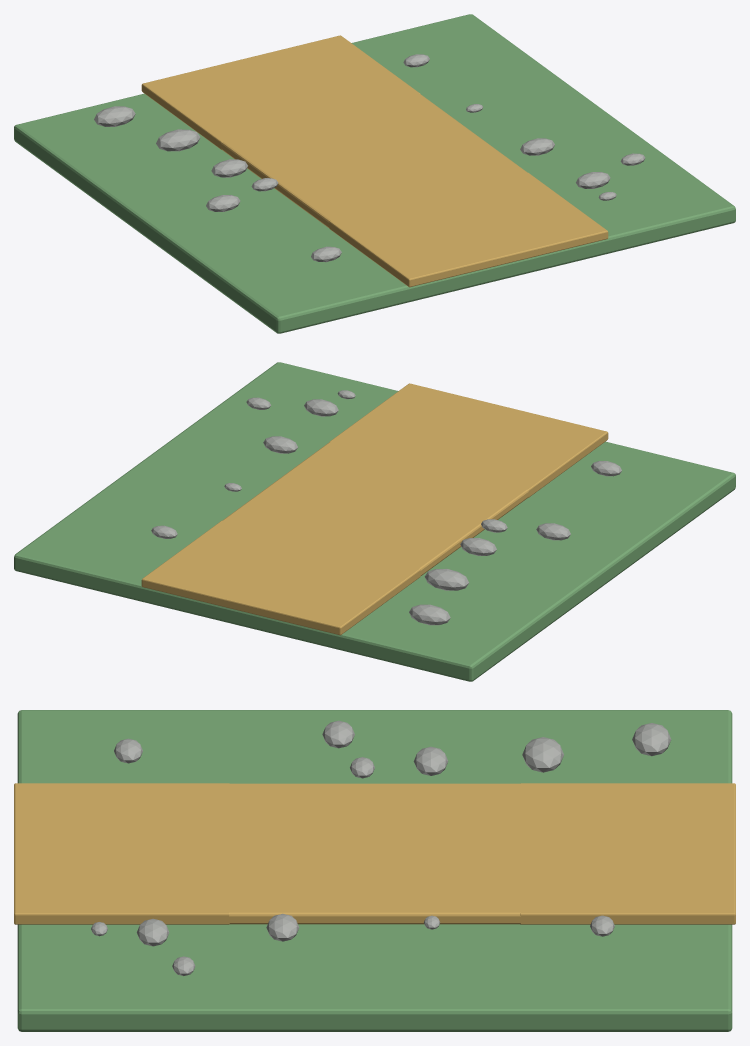
Rendered from ROAD_DIRT_1x1_STRAIGHT.glb.
The picture shows the model from 3 angles, top to bottom: view 1: azimuth 30°, elevation 25°; view 2: azimuth 150°, elevation 25°; view 3: azimuth 270°, elevation 25°; orthographic projection. The views are drawn at different scales.
Parts seen in each view (by area): view 1: ROAD_DIRT_1x1_STRAIGHT_Visual; view 2: ROAD_DIRT_1x1_STRAIGHT_Visual; view 3: ROAD_DIRT_1x1_STRAIGHT_Visual.
Part boxes in pixels (x1,y1,x2,y2): ROAD_DIRT_1x1_STRAIGHT_Visual: [14, 14, 735, 333]; ROAD_DIRT_1x1_STRAIGHT_Visual: [14, 362, 735, 681]; ROAD_DIRT_1x1_STRAIGHT_Visual: [14, 710, 735, 1031].
Size of what is drawn, in the model's own units: 1.98 by 0.1555 by 2.
